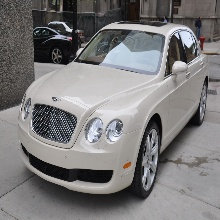no damage: (18, 20, 210, 197), (31, 25, 80, 62)
